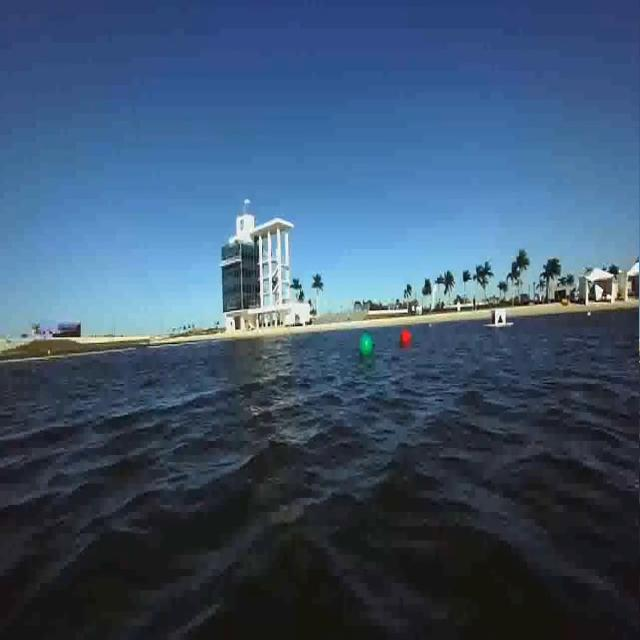green-buoy: (359, 334, 373, 358)
red-buoy: (400, 331, 410, 347)
